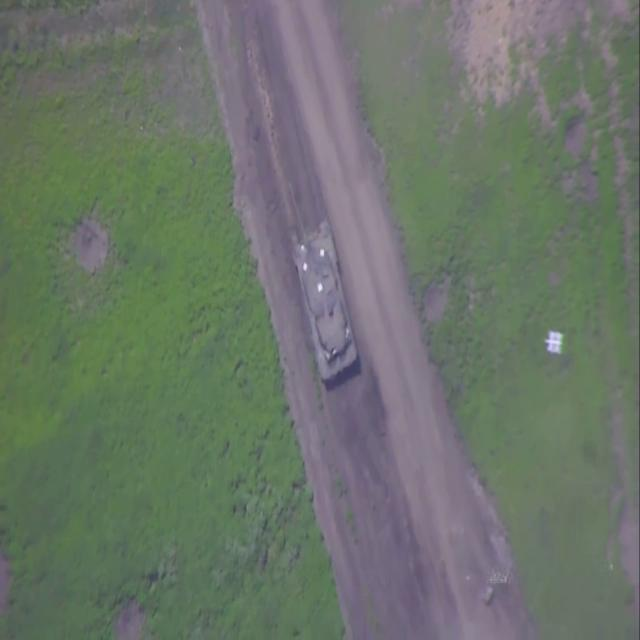MBT: (283, 183, 360, 388)
